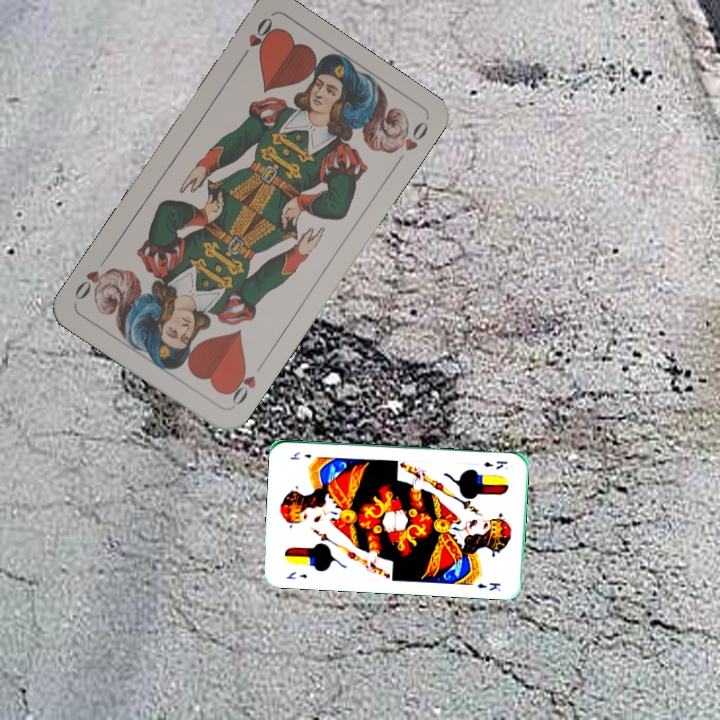EK: (479, 457, 509, 472), (282, 568, 309, 581)
HO: (235, 13, 278, 65), (223, 358, 267, 408)
